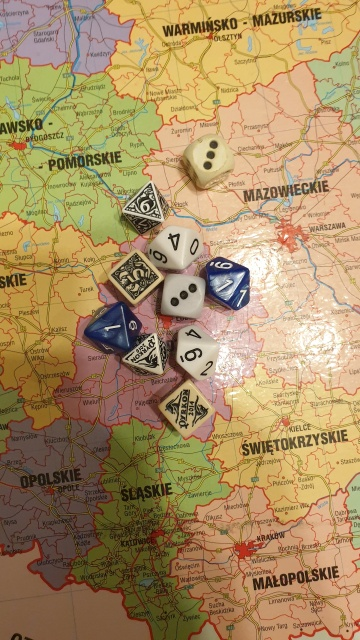d10-1: (202, 251, 252, 313), (83, 306, 131, 349)
d10-4: (146, 225, 206, 273)
d10-6: (171, 324, 224, 383)
d6-3: (180, 128, 231, 184), (158, 273, 204, 318)
d6p-1: (155, 381, 215, 438)
d6p-5: (108, 250, 160, 304)
d8p-1: (123, 333, 171, 381)
d8p-6: (120, 181, 169, 230)
